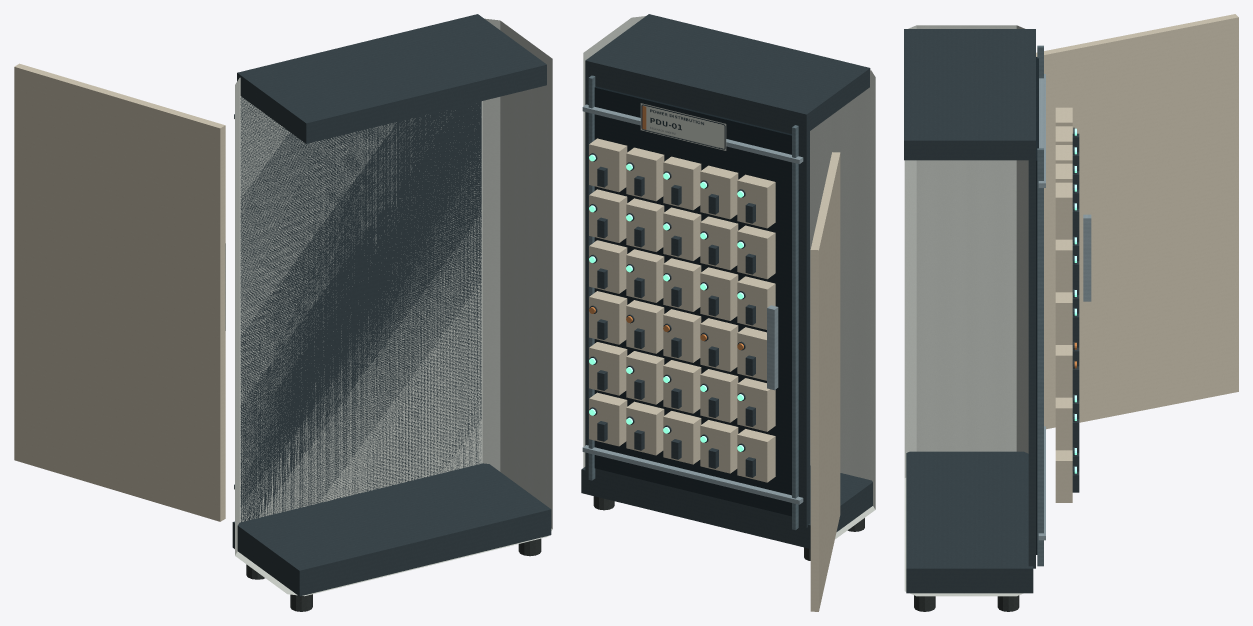
File: power_distribution_panel.glb
The picture shows the model from 3 angles, left to right: view 1: azimuth 30°, elevation 25°; view 2: azimuth 150°, elevation 25°; view 3: azimuth 270°, elevation 25°; orthographic projection. The views are drawn at different scales.
Visible parts, largest first — view 1: front_frame__graphite, static__shell, Cabinet_Door__cream, static__graphite, feet__rubber; view 2: Breaker_Modules__cream, static__graphite, interior__carbon, static__shell, Cabinet_Door__cream, front_frame__graphite, Breaker_Switches__graphite, static__trim, static__alloy, static__label_PDU-01, Circuit_Status__mint, Door_Hinge__alloy (+2 smaller); view 3: Cabinet_Door__cream, static__shell, static__graphite, Breaker_Modules__cream, front_frame__graphite, static__trim, Breaker_Switches__graphite, interior__carbon, static__alloy, Door_Hinge__alloy, feet__rubber.
Boxes of the visible parts, x1,y1,x2,y2 form: front_frame__graphite: [240, 97, 481, 522]; static__shell: [235, 18, 552, 596]; Cabinet_Door__cream: [14, 63, 225, 521]; static__graphite: [232, 14, 551, 596]; feet__rubber: [246, 538, 541, 611]; Breaker_Modules__cream: [589, 138, 775, 482]; static__graphite: [581, 14, 872, 548]; interior__carbon: [594, 86, 798, 516]; static__shell: [583, 16, 875, 539]; Cabinet_Door__cream: [810, 152, 840, 611]; front_frame__graphite: [585, 75, 809, 527]; Breaker_Switches__graphite: [597, 166, 755, 477]; static__trim: [588, 75, 798, 530]; static__alloy: [582, 104, 803, 504]; static__label_PDU-01: [640, 103, 726, 150]; Circuit_Status__mint: [589, 154, 743, 451]; Door_Hinge__alloy: [767, 305, 778, 390]; Cabinet_Door__cream: [1036, 14, 1238, 429]; static__shell: [904, 25, 1028, 596]; static__graphite: [904, 29, 1035, 593]; Breaker_Modules__cream: [1055, 107, 1072, 502]; front_frame__graphite: [1028, 155, 1035, 568]; static__trim: [1037, 45, 1043, 566]; Breaker_Switches__graphite: [1072, 133, 1079, 492]; interior__carbon: [1036, 57, 1038, 554]; static__alloy: [1038, 74, 1045, 540]; Door_Hinge__alloy: [1083, 214, 1091, 301]; feet__rubber: [914, 595, 1019, 611].
Bounding box in the file's own units: 1.51 × 1.92 × 1.24.
10 materials, 10 textured.
